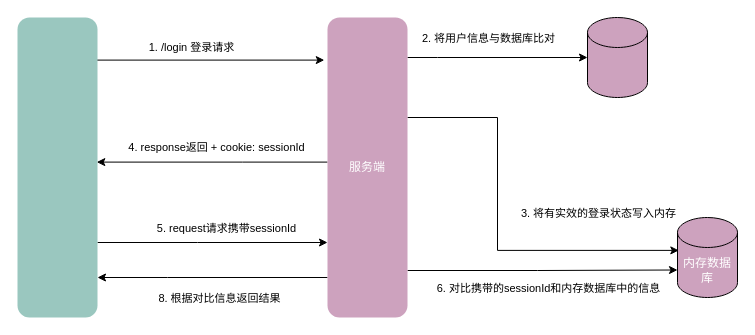
The diagram is 755 pixels wide and 335 high, and some of its shapes have lost their labels. The shapes that lost their labels are listed below. From the top down, each one's box as (x1, y1, x2, y2) in pixels, then its label:
(586, 16, 648, 98): 持久数据库
(17, 17, 97, 317): 客户端
